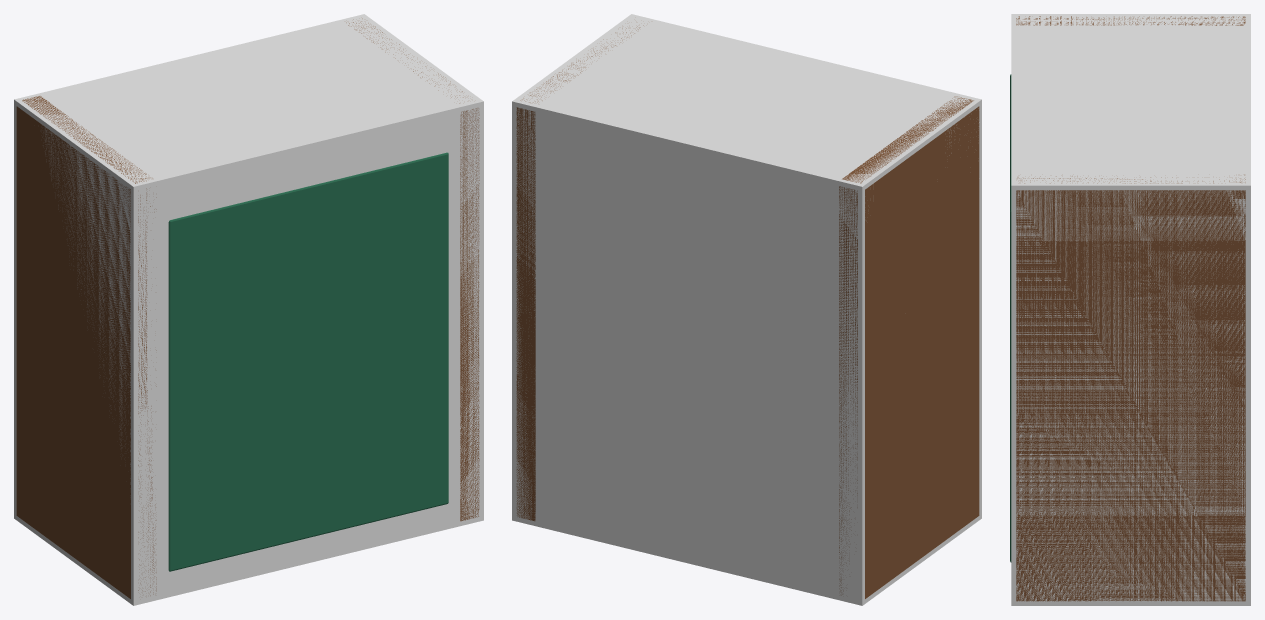
File: restroom-stall_boutique.glb
3 renders of one model, left to right at view 1: azimuth 30°, elevation 25°; view 2: azimuth 150°, elevation 25°; view 3: azimuth 270°, elevation 25°, orthographic.
Visible parts, largest first — view 1: COL_restroom-stall, MESH_StallDoor, MESH_Partition, MESH_Partition.001; view 2: COL_restroom-stall, MESH_Partition, MESH_Partition.001; view 3: COL_restroom-stall, MESH_Partition.001, MESH_StallDoor, MESH_Partition.
Part boxes in pixels (x1,y1,x2,y2): COL_restroom-stall: (14,14,483,605); MESH_StallDoor: (168,152,448,571); MESH_Partition: (16,96,156,598); MESH_Partition.001: (346,18,479,521); COL_restroom-stall: (512,14,981,605); MESH_Partition: (839,96,979,598); MESH_Partition.001: (516,25,643,521); COL_restroom-stall: (1011,14,1250,605); MESH_Partition.001: (1016,174,1245,601); MESH_StallDoor: (1010,74,1011,562); MESH_Partition: (1016,16,1245,25).
Size of the model in its own units: 1.05 by 1.2 by 0.6231.
